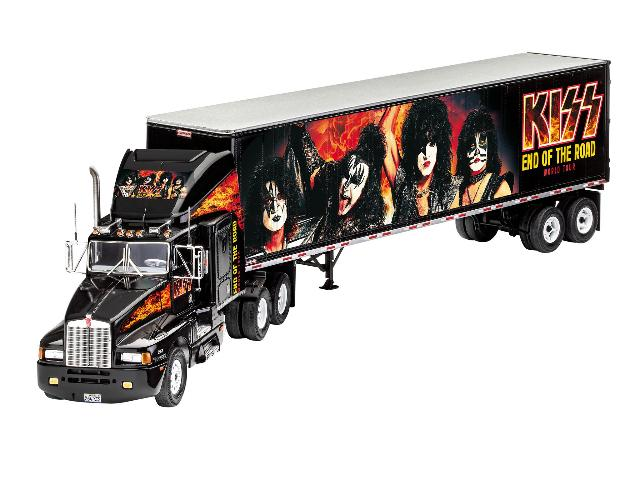truck: (17, 42, 640, 415)
